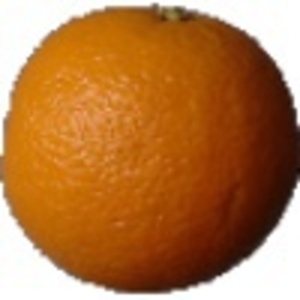laranja: (3, 3, 298, 294)
